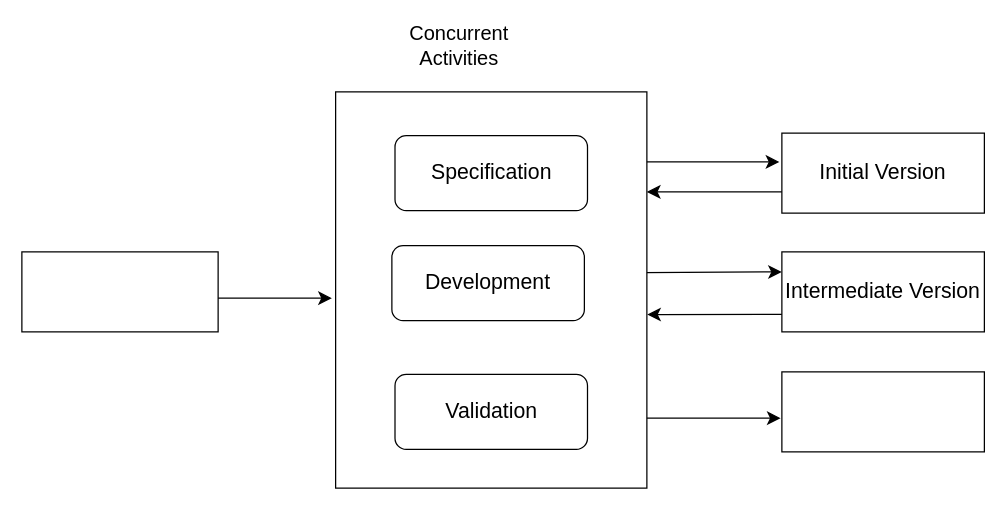
Some shapes in this 1006 by 510 pixel diagram are drawn without their labels. The shapes that lost their labels are listed below. From the top down, each one's centre as x and y in pixels, then its label:
[119,291]: Outline Description
[882,411]: Final Version
